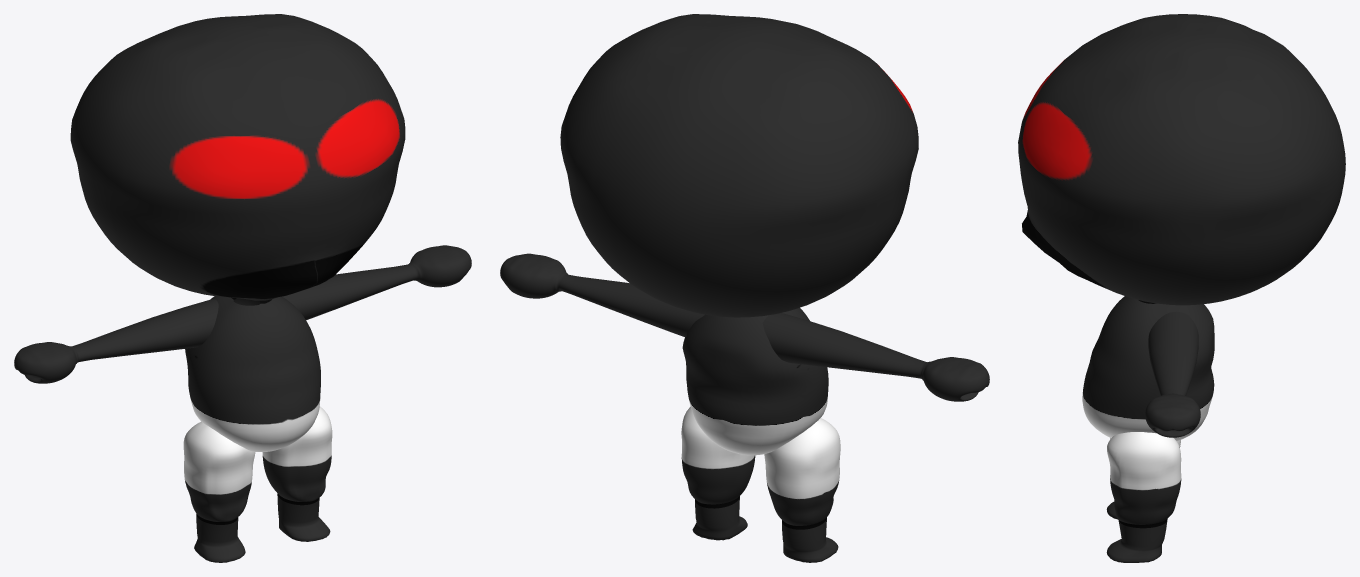
The model's file is the baby.fbx.
3 views of the same model, side by side, from view 1: azimuth 30°, elevation 25°; view 2: azimuth 150°, elevation 25°; view 3: azimuth 270°, elevation 25° (orthographic). The views are drawn at different scales.
Parts seen in each view (by area): view 1: pSphere10; view 2: pSphere10; view 3: pSphere10.
Boxes of the visible parts, x1=… form: pSphere10: x1=14, y1=14, x2=471, y2=562; pSphere10: x1=500, y1=14, x2=989, y2=562; pSphere10: x1=1018, y1=14, x2=1345, y2=562.
Bounding box in the file's own units: 5.96 × 6.19 × 3.73.
Materials: 1 (1 with a texture image).
